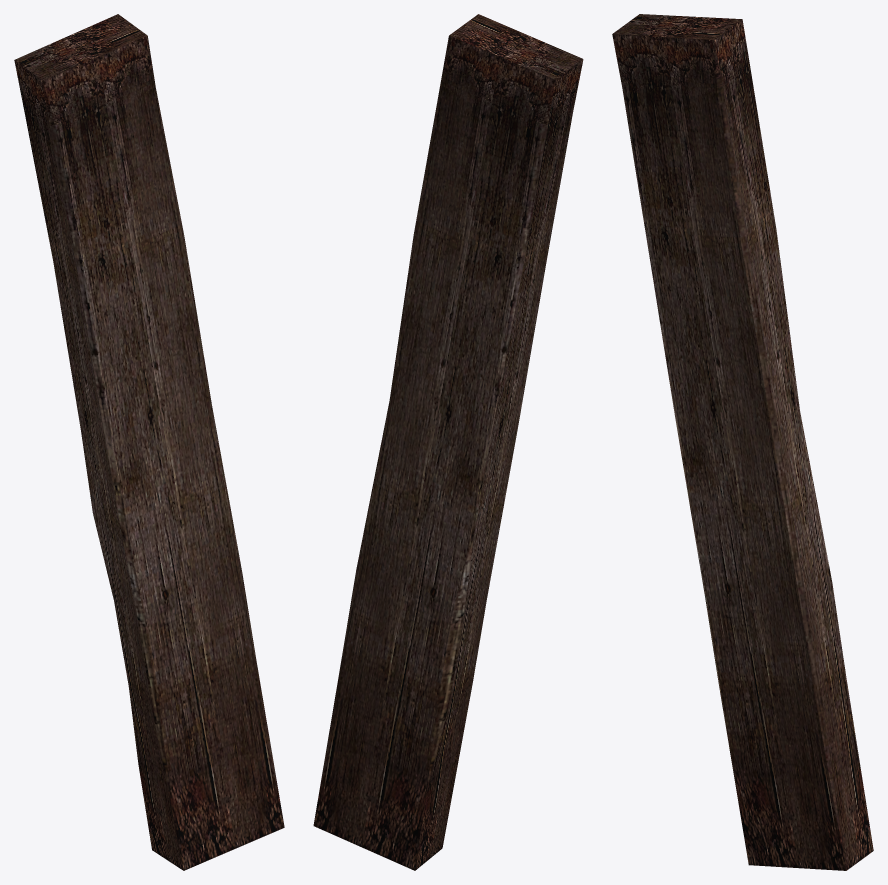
Rendered from 8m_pillar_10_deg.fbx.
3 renders of one model, left to right at view 1: azimuth 30°, elevation 25°; view 2: azimuth 150°, elevation 25°; view 3: azimuth 330°, elevation 25°, orthographic. The views are drawn at different scales.
Visible parts, largest first — view 1: mesh_0; view 2: mesh_0; view 3: mesh_0.
Boxes of the visible parts, x1=… form: mesh_0: x1=14, y1=14, x2=284, y2=870; mesh_0: x1=313, y1=14, x2=583, y2=870; mesh_0: x1=612, y1=14, x2=873, y2=870.
Size of the model in its own units: 227 by 756 by 52.73.
1 material, 1 textured.
